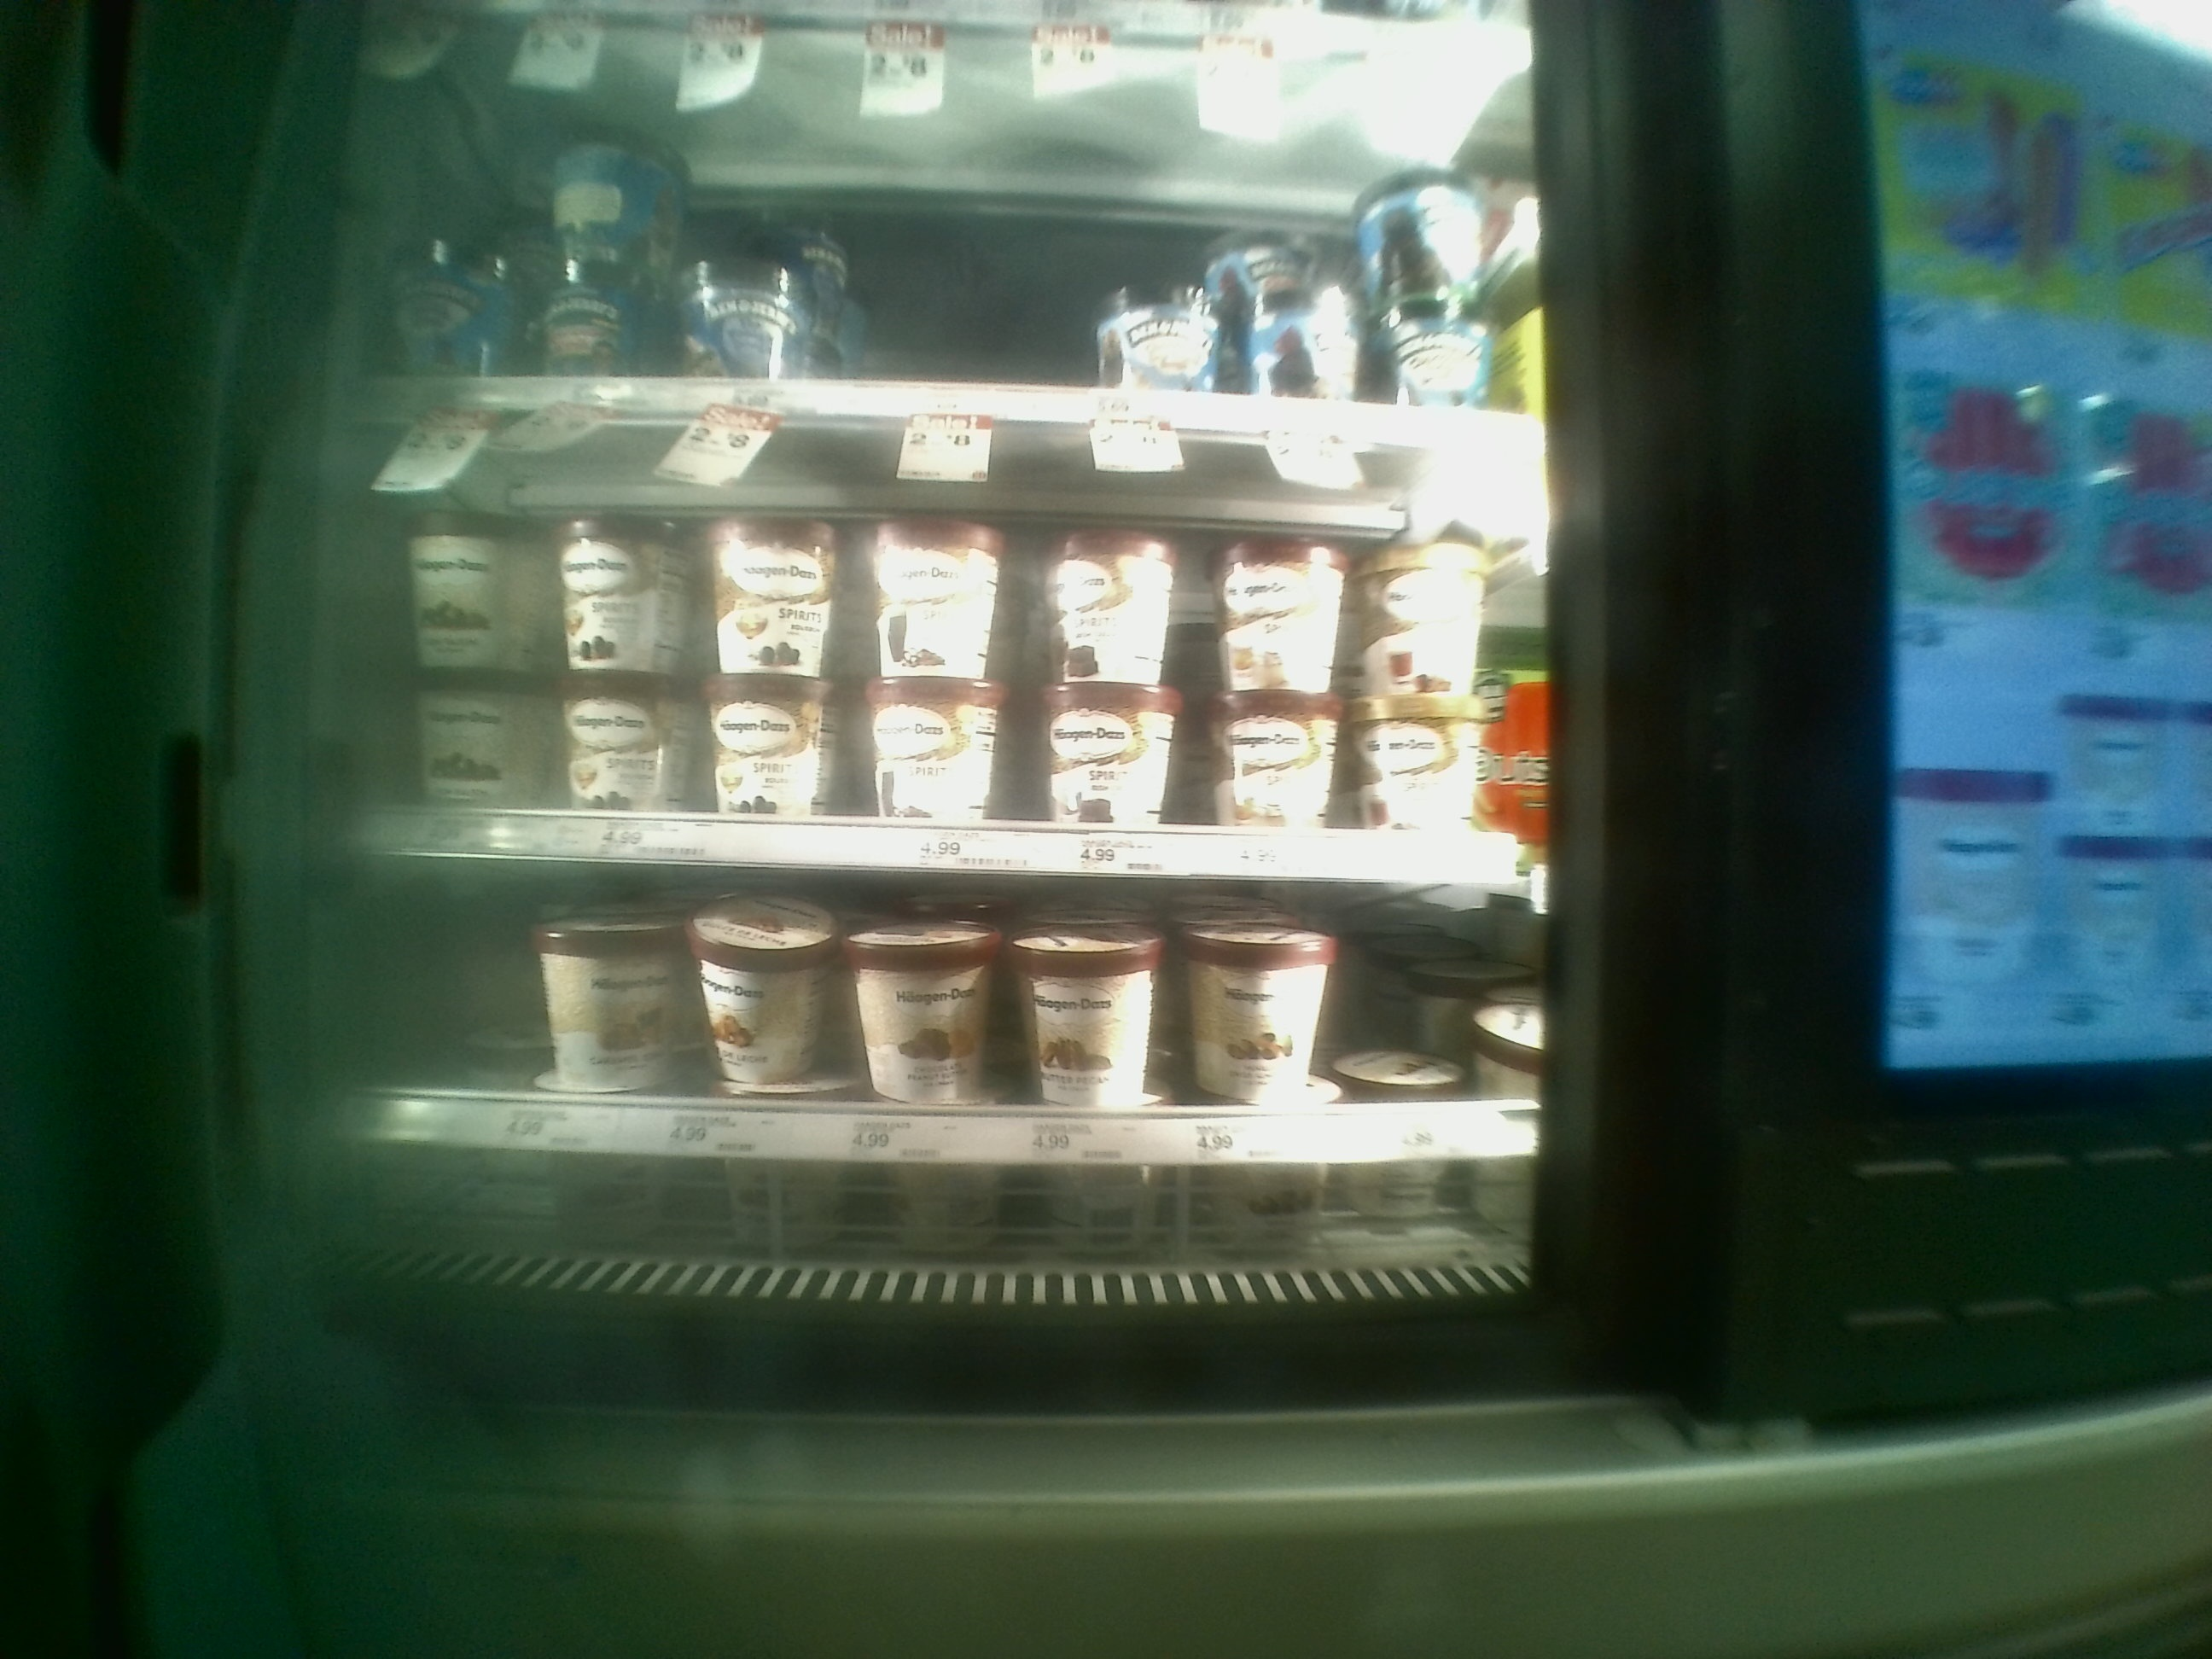shelf: (361, 427, 1564, 878), (355, 864, 1550, 1206)
